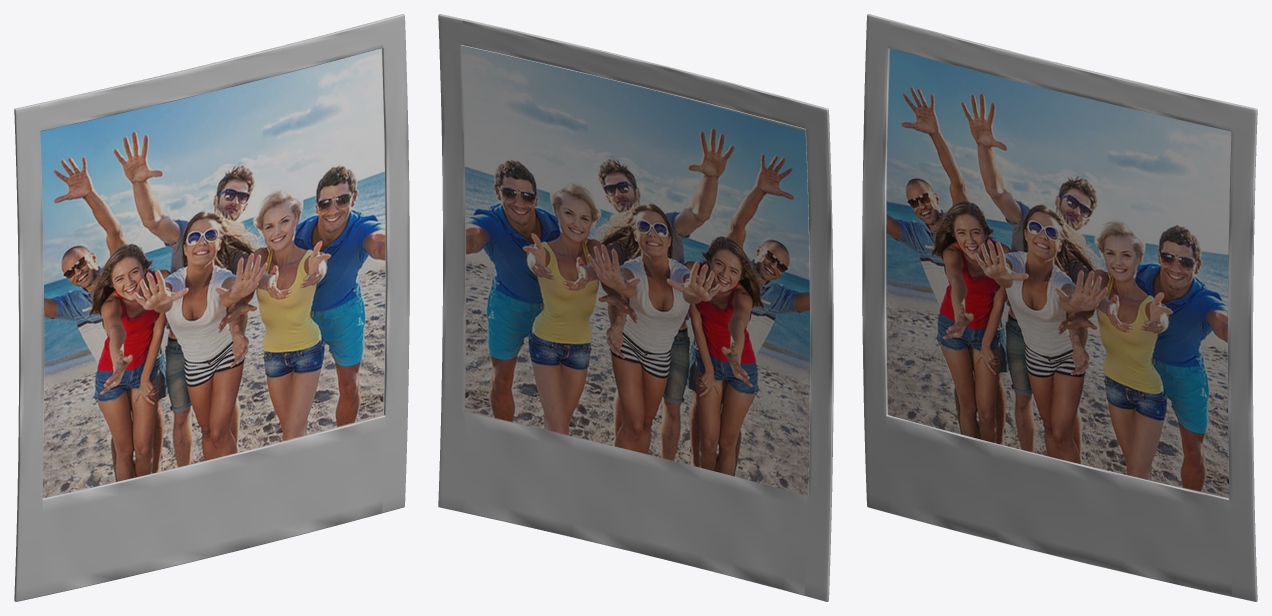
3 views of the same model, side by side, from view 1: azimuth 30°, elevation 25°; view 2: azimuth 150°, elevation 25°; view 3: azimuth 330°, elevation 25° (orthographic).
Visible parts, largest first — view 1: Plane003, Plane006; view 2: Plane003, Plane006; view 3: Plane003, Plane006.
Boxes of the visible parts, x1=… form: Plane003: x1=40, y1=48, x2=385, y2=498; Plane006: x1=14, y1=14, x2=409, y2=601; Plane003: x1=460, y1=45, x2=810, y2=495; Plane006: x1=438, y1=14, x2=833, y2=601; Plane003: x1=886, y1=48, x2=1231, y2=498; Plane006: x1=862, y1=14, x2=1257, y2=601.
Size of the model in its own units: 0.0666 by 0.0805 by 0.00227.
Materials: 2 (1 with a texture image).
